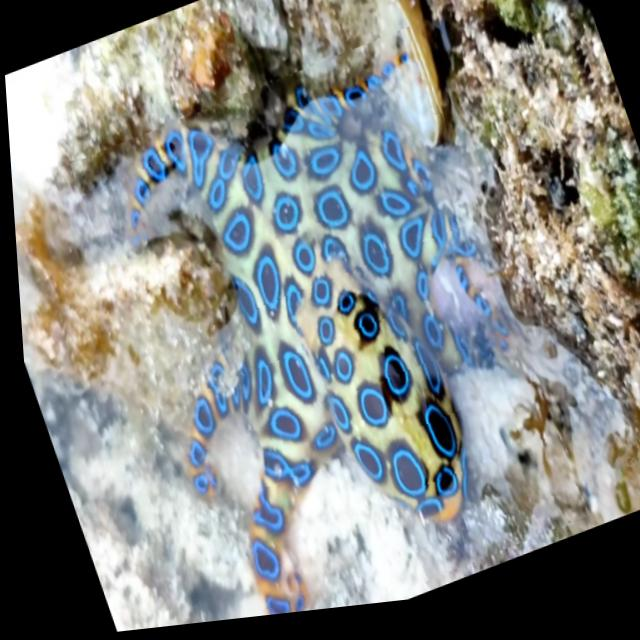blue_ringed_octopus: (63, 22, 582, 635)
